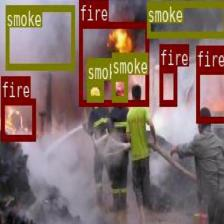fire: (78, 21, 148, 104), (195, 67, 224, 122), (0, 98, 35, 140), (159, 65, 176, 105)
smoke: (5, 4, 74, 68), (146, 0, 223, 36), (112, 74, 127, 100), (87, 80, 103, 101)
